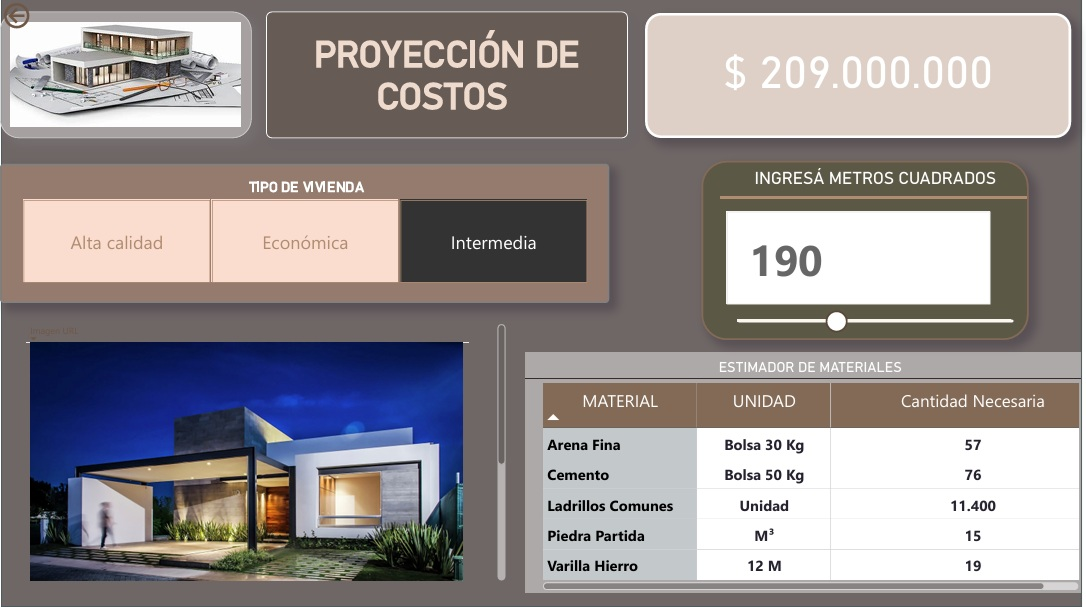

The dashboard page shown, as its layout file describes it:
{"tool":"powerbi","page":{"name":"CONSTRUCCIÓN: SIMULADOR DE COSTOS","canvas":[1280,720],"ordinal":0},"visuals":[{"type":"shape","box":[2.1,0,1277.9,719.2],"z":0},{"type":"slicer","title":"TIPO DE VIVIENDA","fields":{"Values":["CostosConstrucción.Tipo de vivienda"]},"box":[0,195.4,720.8,165.1],"z":1000},{"type":"slicer","title":"INGRESÁ METROS CUADRADOS","fields":{"Values":["MetrosCuadrados.MetrosCuadrados"]},"box":[829.8,192,387.3,211.5],"z":2000},{"type":"card","fields":{"Values":["CostosConstrucción.Costo Total"]},"box":[763.1,16.3,504.4,148.1],"z":3000},{"type":"tableEx","title":"ESTIMADOR DE MATERIALES","fields":{"Values":["Materiales.Material","Materiales.Unidad","Materiales.Cantidad de Materiales"]},"box":[621.5,417.7,656.8,284.6],"z":4000},{"type":"textbox","box":[314.9,15.2,427.8,149.9],"z":5000},{"type":"image","box":[0,15.8,298,150],"z":6000},{"type":"tableEx","fields":{"Values":["EstiloVivienda.Imagen URL"]},"box":[30.3,385.7,567.6,303.2],"z":7000},{"type":"actionButton","box":[0,0,100,40],"z":8000}]}

Visuals, with their boxes in screenshot pixels (x1, y1, x2, y2), scaled from the page's 1280x720 canvas onto the 1086x607 screenshot:
shape: (left=2, top=0, right=1085, bottom=606)
"TIPO DE VIVIENDA" slicer: (left=0, top=165, right=612, bottom=304)
"INGRESÁ METROS CUADRADOS" slicer: (left=704, top=162, right=1033, bottom=340)
card - CostosConstrucción.Costo Total: (left=647, top=14, right=1075, bottom=139)
"ESTIMADOR DE MATERIALES" tableEx: (left=527, top=352, right=1085, bottom=592)
textbox: (left=267, top=13, right=630, bottom=139)
image: (left=0, top=13, right=253, bottom=140)
tableEx - EstiloVivienda.Imagen URL: (left=26, top=325, right=507, bottom=581)
actionButton: (left=0, top=0, right=85, bottom=34)
